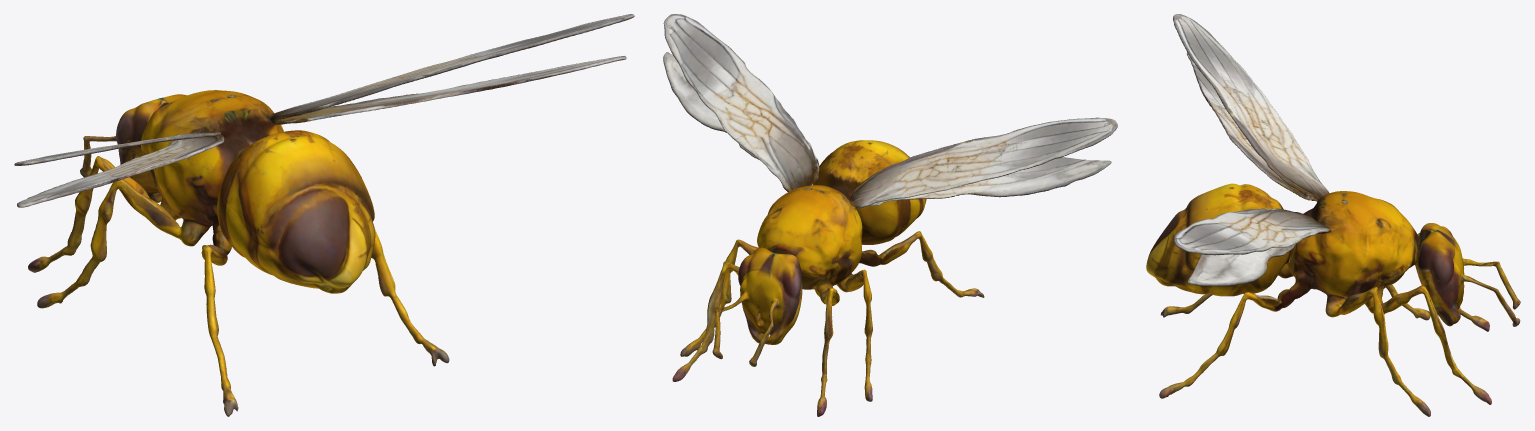
File: Insect_Anatomy.glb
The picture shows the model from 3 angles, left to right: view 1: azimuth 30°, elevation 25°; view 2: azimuth 150°, elevation 25°; view 3: azimuth 270°, elevation 25°; orthographic projection. The views are drawn at different scales.
Bounding box in the file's own units: 2 × 0.9577 × 1.36.
Materials: 1 (1 with a texture image).
